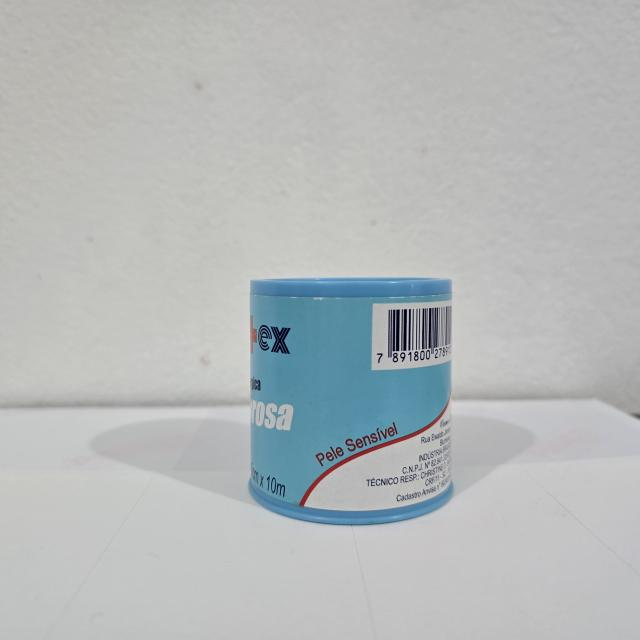procitex: (245, 274, 457, 530)
